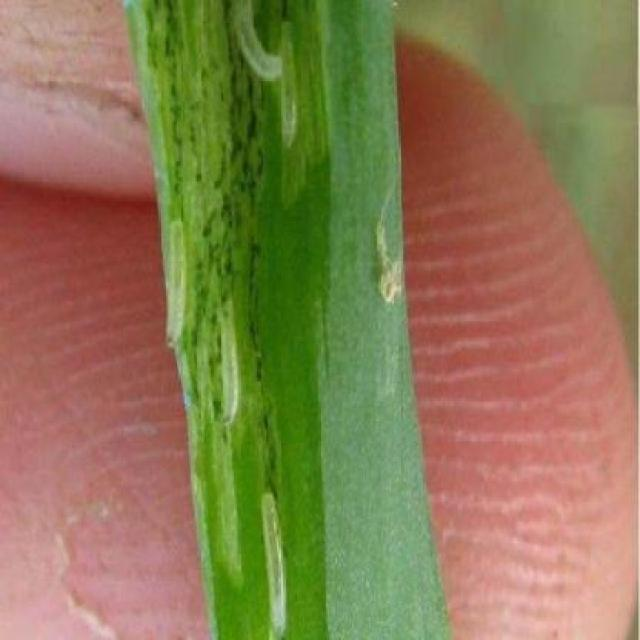whorl-maggot: (250, 478, 302, 640), (228, 7, 282, 93), (211, 288, 244, 420), (165, 216, 190, 361), (278, 12, 302, 154)
